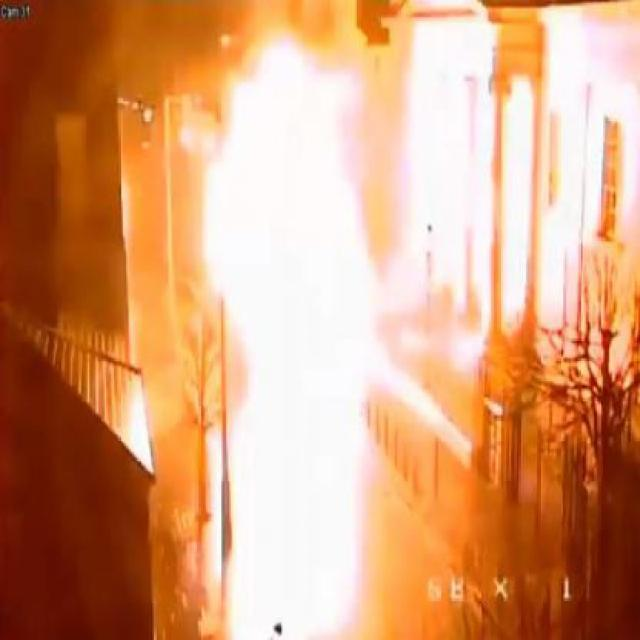Fire: (179, 32, 386, 640), (379, 3, 503, 338), (368, 349, 480, 465), (504, 76, 534, 330), (540, 0, 588, 111), (111, 372, 154, 478), (558, 114, 584, 288), (590, 30, 638, 121), (540, 204, 562, 316), (383, 248, 417, 316), (586, 118, 602, 258), (620, 119, 638, 230), (452, 330, 482, 368), (454, 329, 479, 363), (420, 0, 477, 12), (398, 329, 424, 354)
